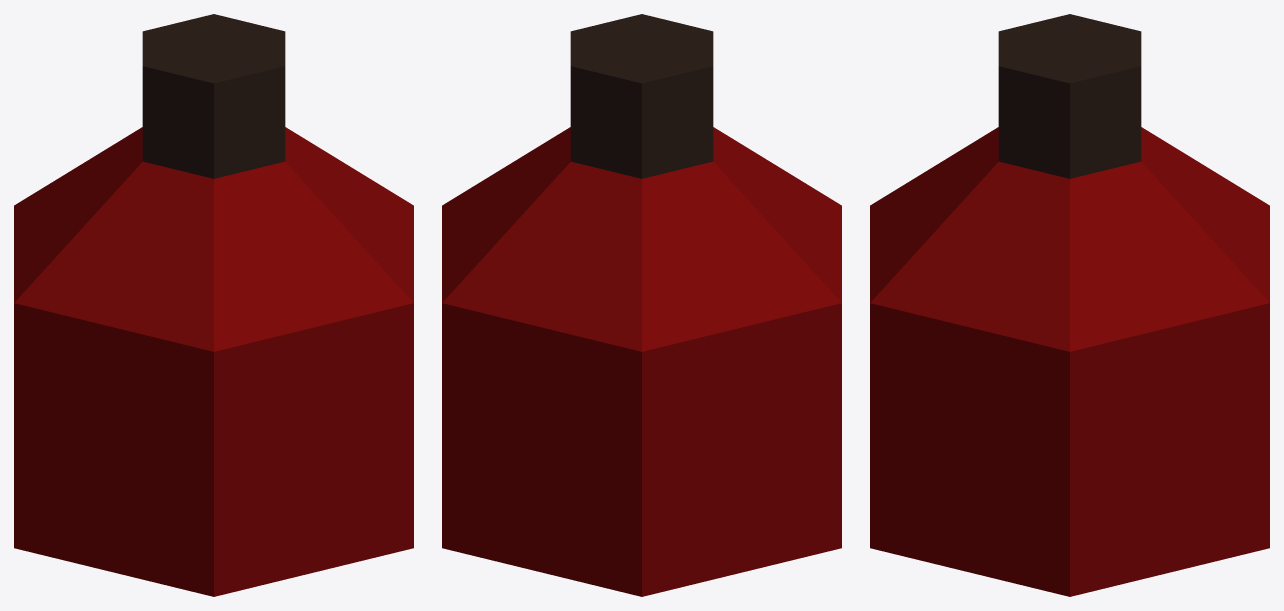
3 views of the same model, side by side, from view 1: azimuth 30°, elevation 25°; view 2: azimuth 150°, elevation 25°; view 3: azimuth 270°, elevation 25° (orthographic).
Parts seen in each view (by area): view 1: Cylinder028; view 2: Cylinder028; view 3: Cylinder028.
Boxes of the visible parts, x1,y1,x2,y2 form: Cylinder028: (14, 14, 413, 596); Cylinder028: (442, 14, 841, 596); Cylinder028: (870, 14, 1269, 596).
Size of the model in its own units: 0.12 by 0.1293 by 0.1039.
